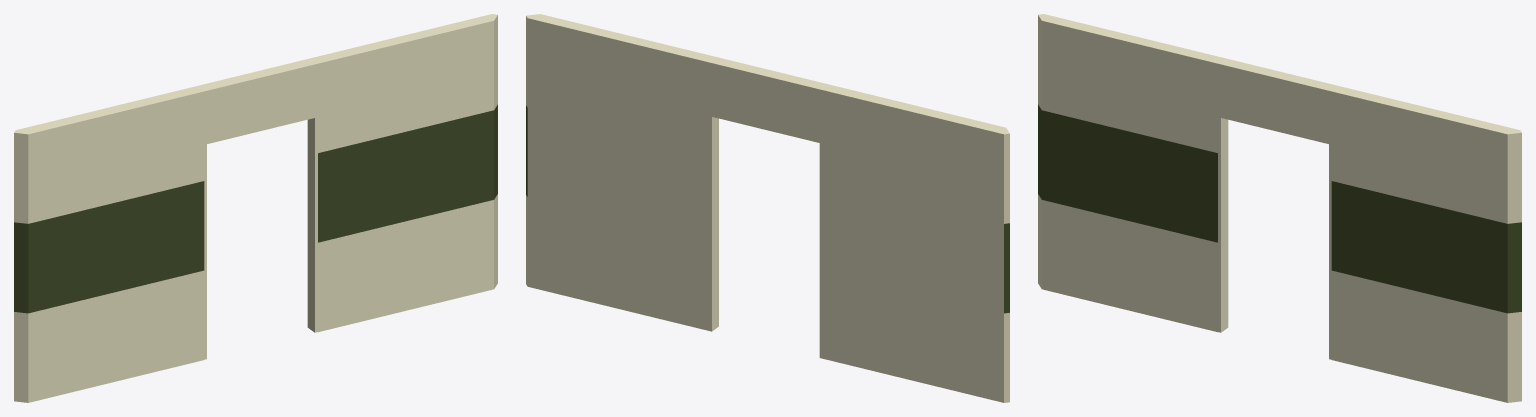
File: InteriorWall_45Door_Capped_ExportPrep.gltf
3 renders of one model, left to right at view 1: azimuth 30°, elevation 25°; view 2: azimuth 150°, elevation 25°; view 3: azimuth 330°, elevation 25°, orthographic.
Parts seen in each view (by area): view 1: InteriorWall_45Door_Capped; view 2: InteriorWall_45Door_Capped; view 3: InteriorWall_45Door_Capped.
Part boxes in pixels (<box>): InteriorWall_45Door_Capped: <box>14,14,497,402</box>; InteriorWall_45Door_Capped: <box>526,14,1009,402</box>; InteriorWall_45Door_Capped: <box>1038,14,1521,402</box>.
Size of the model in its own units: 5.66 by 3 by 0.15.
